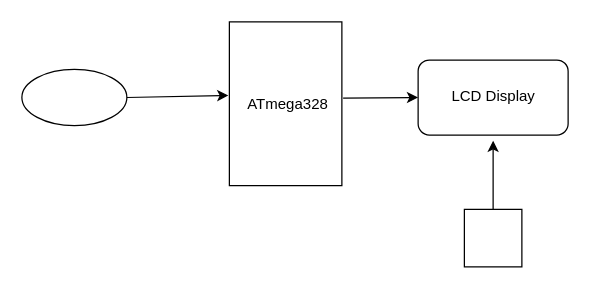
Image size: 590x289. Some labels were removed from this diagram. Here are the shapes that lost their labels. From the top down, the centre of each, then its label:
At (x=74, y=97): "LDR Sensor".
At (x=492, y=237): "Power Supply".
